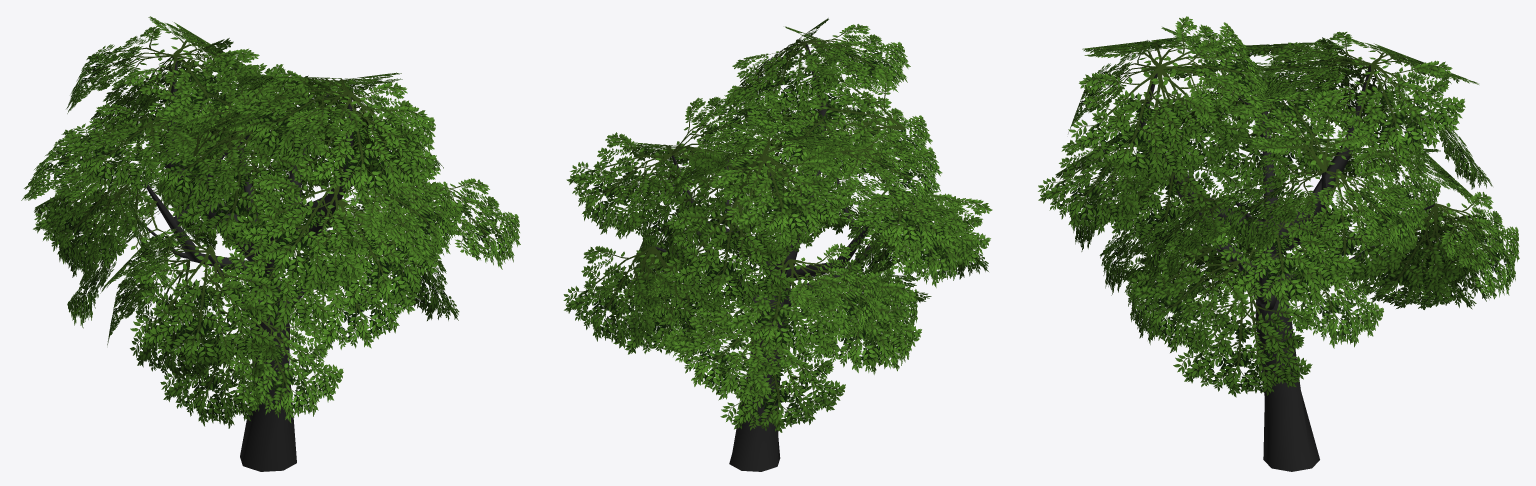
Rendered from LowPolyTree.fbx.
3 views of the same model, side by side, from view 1: azimuth 30°, elevation 25°; view 2: azimuth 150°, elevation 25°; view 3: azimuth 270°, elevation 25° (orthographic). The views are drawn at different scales.
Visible parts, largest first — view 1: Tree; view 2: Tree; view 3: Tree.
Boxes of the visible parts, x1,y1,x2,y2 form: Tree: (21, 16, 520, 471); Tree: (563, 18, 992, 471); Tree: (1038, 16, 1519, 471).
Bounding box in the file's own units: 919 × 854 × 909.
